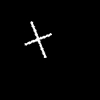single_crochet: (25, 22, 51, 57)
